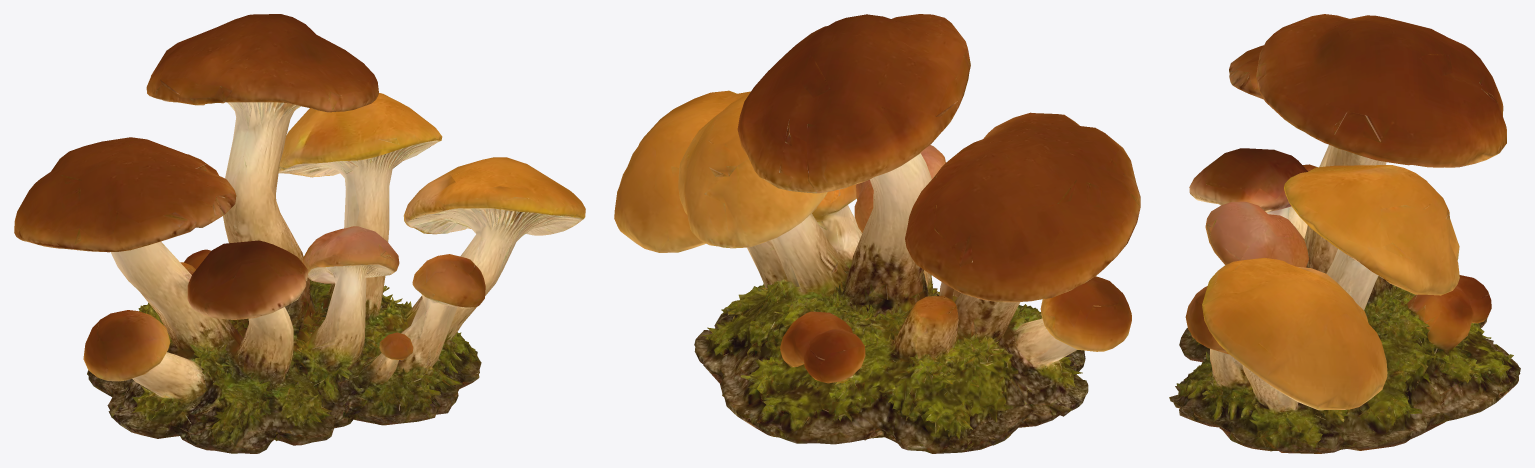
The model's file is chestnut-mushroom-colony.glb.
3 renders of one model, left to right at view 1: azimuth 30°, elevation 25°; view 2: azimuth 150°, elevation 25°; view 3: azimuth 270°, elevation 25°, orthographic. The views are drawn at different scales.
Parts seen in each view (by area): view 1: Mesh_0; view 2: Mesh_0; view 3: Mesh_0.
Part boxes in pixels (x1,y1,x2,y2): Mesh_0: [14, 14, 585, 453]; Mesh_0: [614, 14, 1140, 453]; Mesh_0: [1169, 14, 1520, 453].
Size of the model in its own units: 0.1386 by 0.09 by 0.082.
Materials: 1 (1 with a texture image).
